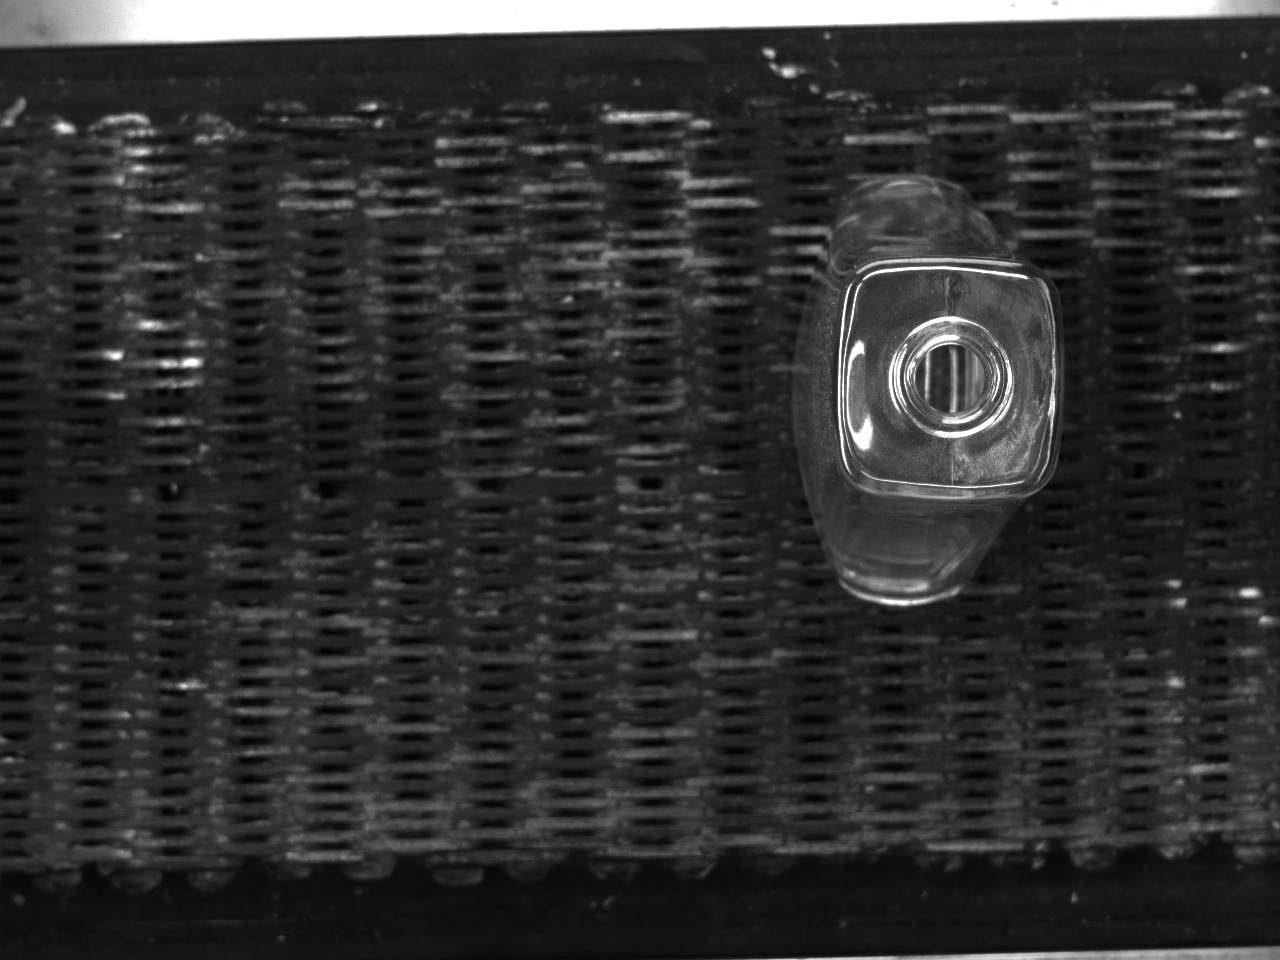bottleneck: (893, 316, 1013, 438)
